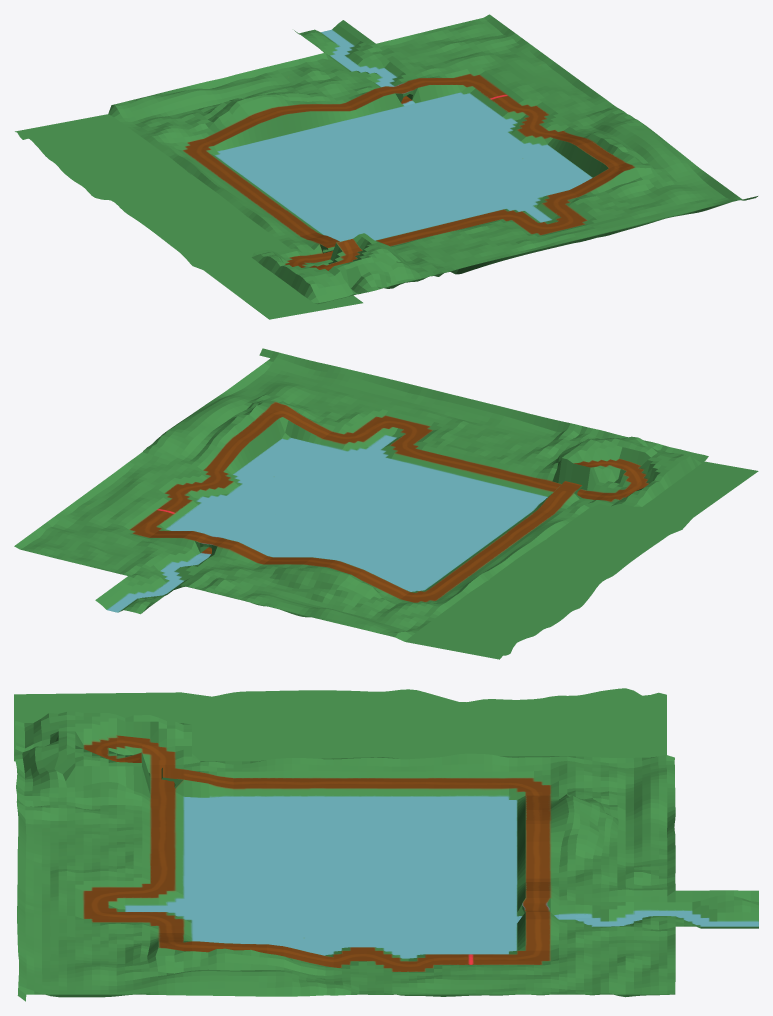
File: lake_track.obj
3 views of the same model, one above another, from view 1: azimuth 30°, elevation 25°; view 2: azimuth 150°, elevation 25°; view 3: azimuth 270°, elevation 25° (orthographic). The views are drawn at different scales.
Bounding box in the file's own units: 37.68 × 2.2 × 38.82.
1 material, 1 textured.
